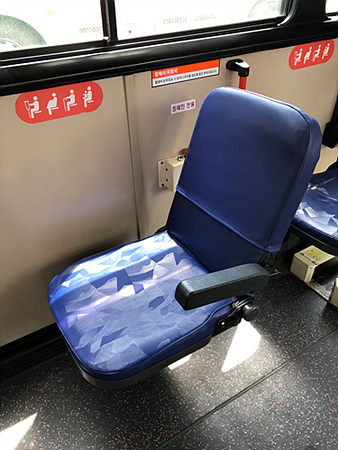seat: (48, 88, 321, 392)
